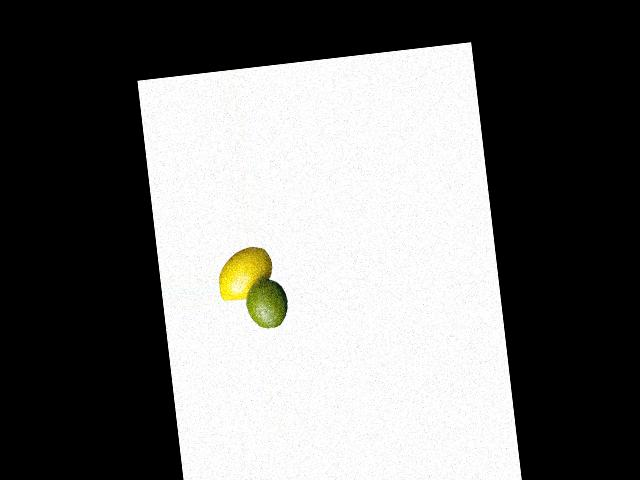lemon: (234, 267, 293, 332)
